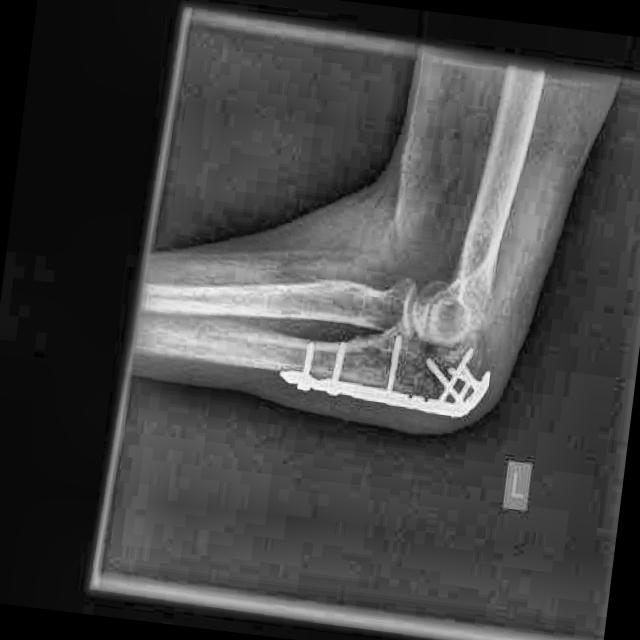elbow positive: (416, 352, 472, 414), (292, 342, 342, 393)
